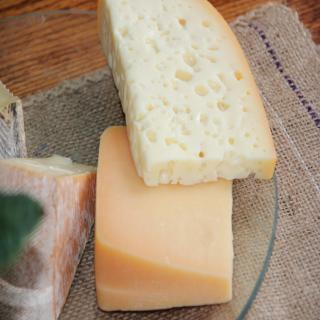Cheese: (95, 0, 277, 189), (93, 128, 235, 313), (0, 156, 98, 320), (0, 80, 28, 158)
